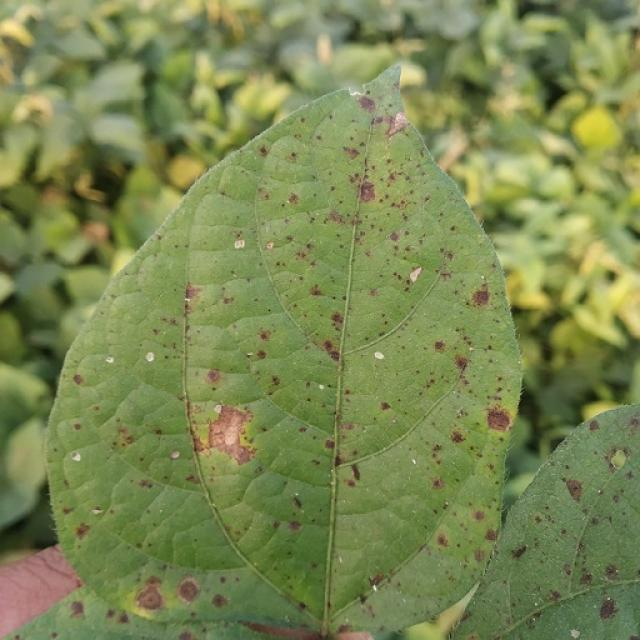Anthracnose: (205, 405, 256, 464), (371, 107, 410, 139), (485, 404, 510, 438), (135, 584, 164, 611), (604, 446, 630, 475), (176, 577, 200, 603), (321, 341, 340, 363), (599, 597, 617, 620), (191, 432, 209, 453), (566, 480, 583, 502), (359, 181, 376, 202), (325, 209, 346, 225), (472, 288, 490, 306), (357, 95, 376, 112), (184, 284, 201, 302), (453, 354, 469, 371), (211, 593, 228, 609), (74, 522, 90, 538), (368, 573, 384, 589), (604, 564, 619, 581), (69, 600, 84, 617), (342, 145, 360, 159), (206, 369, 221, 384), (511, 545, 527, 559), (450, 430, 465, 444), (349, 463, 360, 481), (484, 528, 498, 542), (256, 187, 270, 201), (579, 572, 593, 586), (330, 312, 343, 327), (408, 268, 421, 283), (474, 548, 486, 563), (588, 418, 601, 431), (309, 285, 323, 297), (437, 533, 448, 548), (259, 329, 272, 341), (117, 612, 130, 624), (562, 563, 573, 577), (337, 624, 352, 634), (474, 509, 486, 521), (287, 193, 299, 205), (72, 373, 84, 385), (432, 478, 444, 490), (459, 611, 471, 623), (433, 340, 446, 351), (288, 520, 301, 531), (138, 478, 152, 488), (292, 495, 302, 509), (255, 349, 267, 360), (389, 231, 400, 243), (443, 250, 454, 262), (590, 515, 601, 526), (612, 492, 622, 504), (380, 401, 391, 411), (259, 146, 269, 157), (533, 514, 543, 525), (324, 439, 334, 450), (296, 602, 307, 612), (222, 296, 234, 305), (359, 594, 368, 606), (145, 352, 155, 362), (62, 506, 73, 515), (374, 351, 385, 360), (235, 239, 245, 248), (178, 634, 193, 640), (170, 450, 180, 459), (73, 422, 82, 430), (266, 242, 274, 250), (298, 426, 307, 433)
Blackgram: (21, 68, 521, 639)
